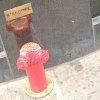a fire hydrant: (15, 39, 53, 98)
